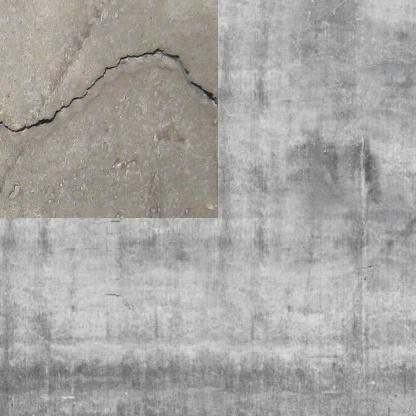Cracks: (0, 43, 176, 125), (175, 73, 200, 94)
